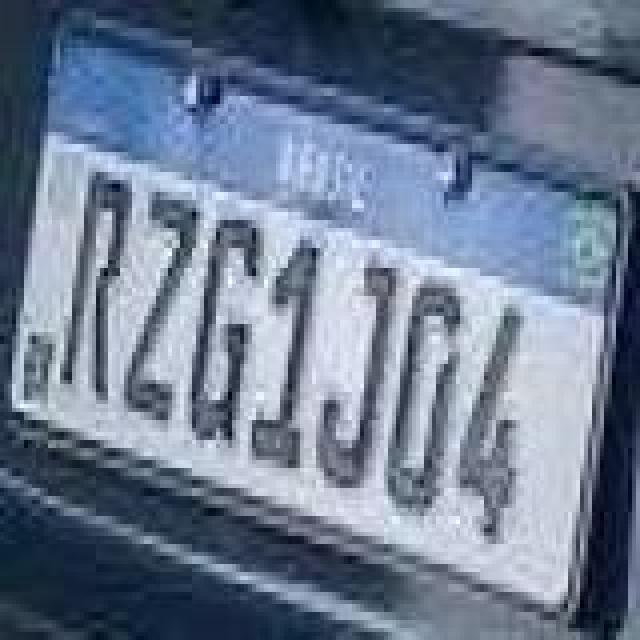1: (244, 232, 324, 472)
4: (452, 300, 524, 540)
D: (382, 282, 466, 518)
G: (190, 212, 266, 444)
J: (318, 258, 402, 494)
R: (56, 170, 136, 406)
Z: (118, 186, 202, 422)
